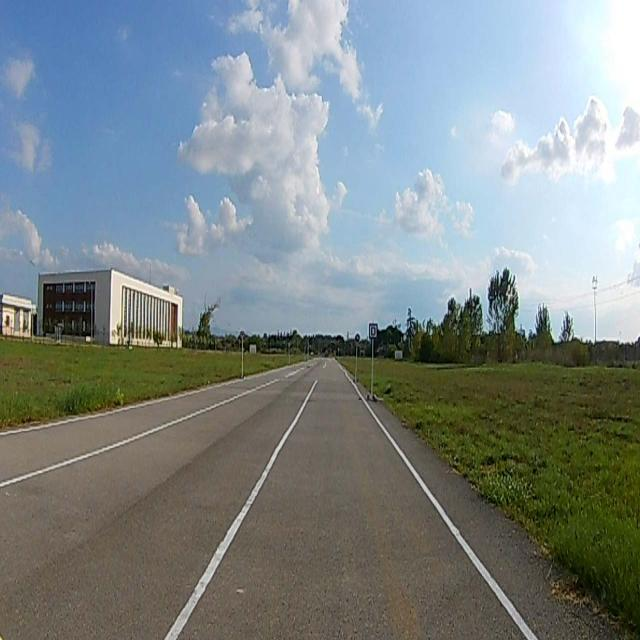durak: (369, 322, 377, 340)
